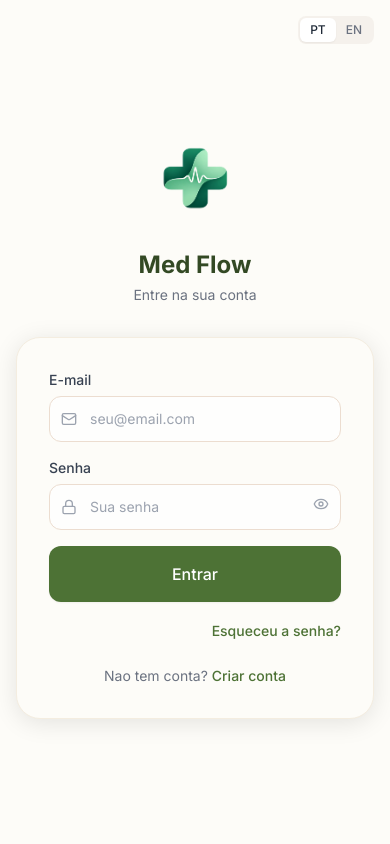
Test: Login Edge Cases › shows both validation errors when submitting empty form
Click the button "Entrar" at (195, 574), box [49,546,341,602]
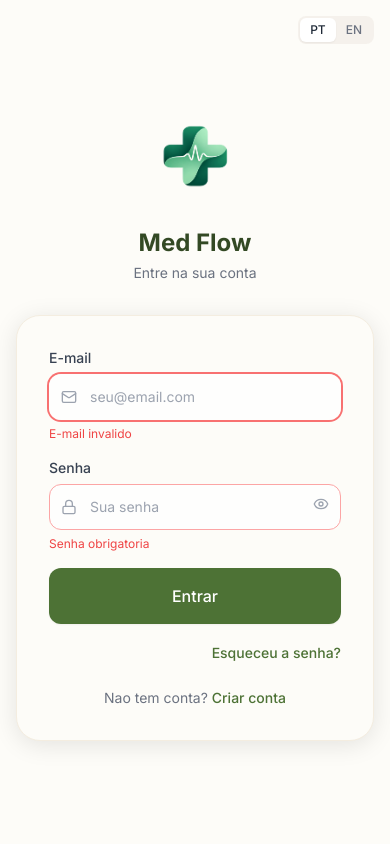
Expected: the text "E-mail invalido" is shown, [49,426,132,441]
Expected: the text "Senha obrigatoria" is shown, [49,536,150,551]
